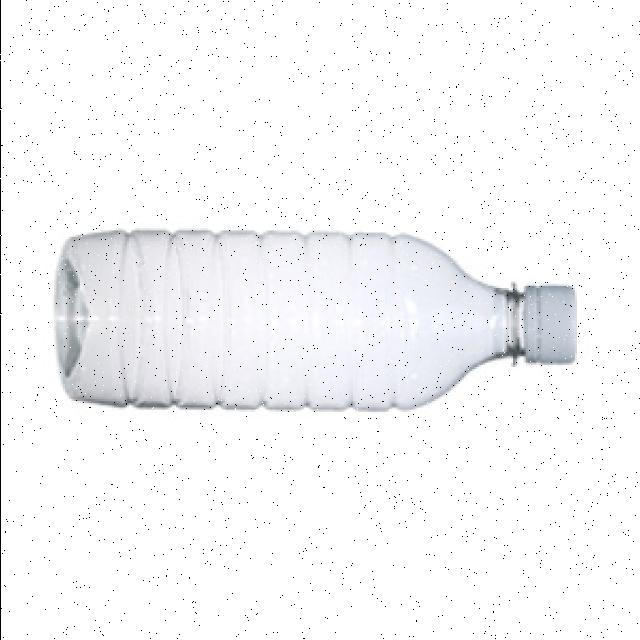plastic: (42, 188, 588, 481)
